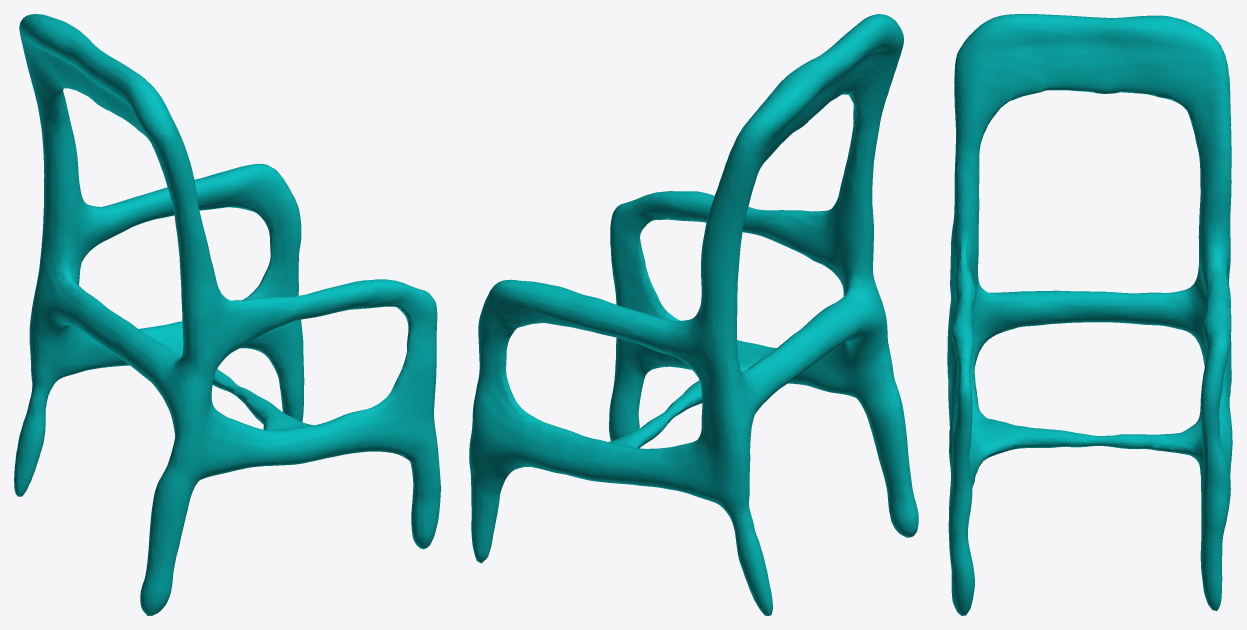
The picture shows the model from 3 angles, left to right: view 1: azimuth 30°, elevation 25°; view 2: azimuth 150°, elevation 25°; view 3: azimuth 270°, elevation 25°; orthographic projection. The views are drawn at different scales.
Bounding box in the file's own units: 0.6243 × 1.04 × 0.5609.
